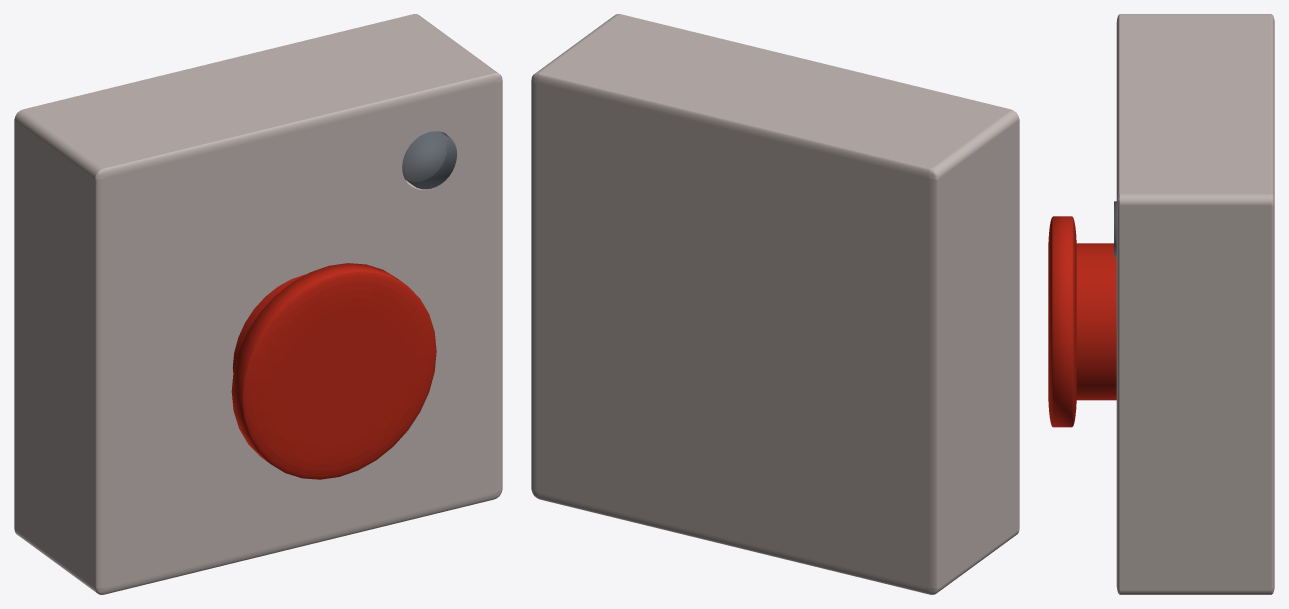
File: big-button-module.glb
3 views of the same model, side by side, from view 1: azimuth 30°, elevation 25°; view 2: azimuth 150°, elevation 25°; view 3: azimuth 270°, elevation 25° (orthographic). The views are drawn at different scales.
Visible parts, largest first — view 1: ButtonModule, ButtonHead, Light.003, ButtonShaft; view 2: ButtonModule; view 3: ButtonModule, ButtonShaft, ButtonHead.
Part boxes in pixels (x1,y1,x2,y2): ButtonModule: [14, 14, 502, 594]; ButtonHead: [231, 263, 436, 479]; Light.003: [402, 131, 456, 189]; ButtonShaft: [232, 274, 305, 371]; ButtonModule: [531, 14, 1019, 594]; ButtonModule: [1116, 14, 1274, 594]; ButtonShaft: [1076, 243, 1116, 400]; ButtonHead: [1048, 216, 1076, 427].
Bounding box in the file's own units: 0.1761 × 0.1761 × 0.0903.
